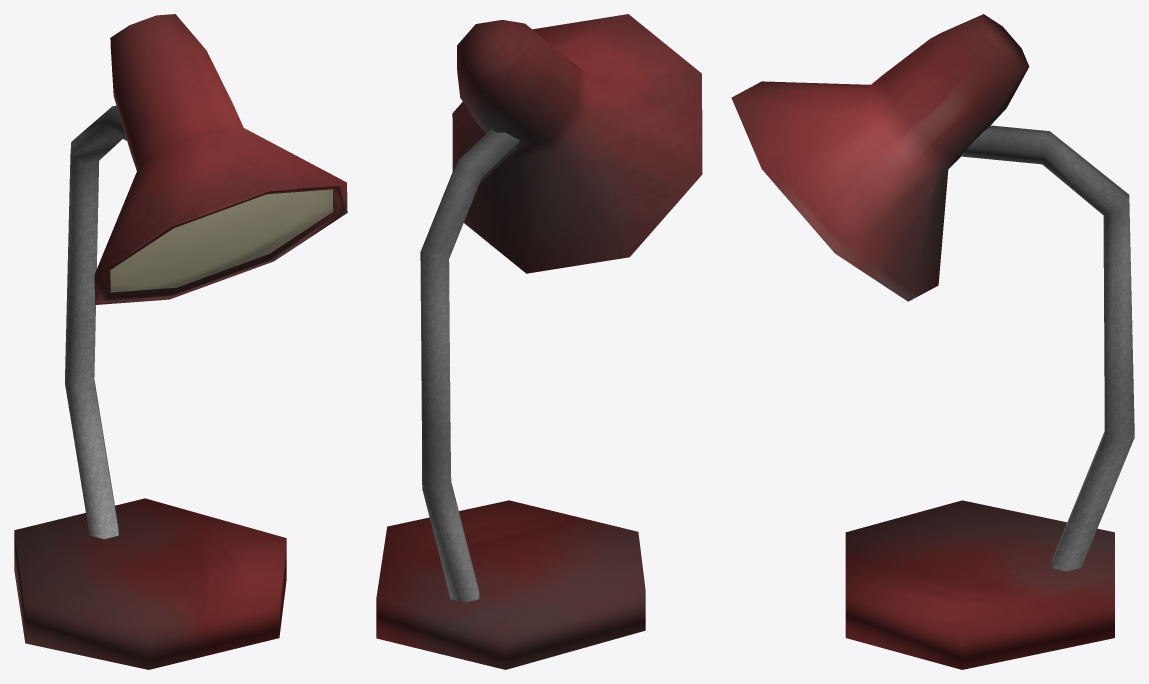
The model's file is DeskLamp.fbx.
The picture shows the model from 3 angles, left to right: view 1: azimuth 30°, elevation 25°; view 2: azimuth 150°, elevation 25°; view 3: azimuth 270°, elevation 25°; orthographic projection.
Visible parts, largest first — view 1: DeskLamp; view 2: DeskLamp; view 3: DeskLamp.
Boxes of the visible parts, bbox=[...] form: DeskLamp: bbox=[14, 14, 347, 669]; DeskLamp: bbox=[376, 14, 702, 669]; DeskLamp: bbox=[731, 14, 1134, 669].
Size of the model in its own units: 31.7 by 68.3 by 42.22.
Materials: 1 (1 with a texture image).
